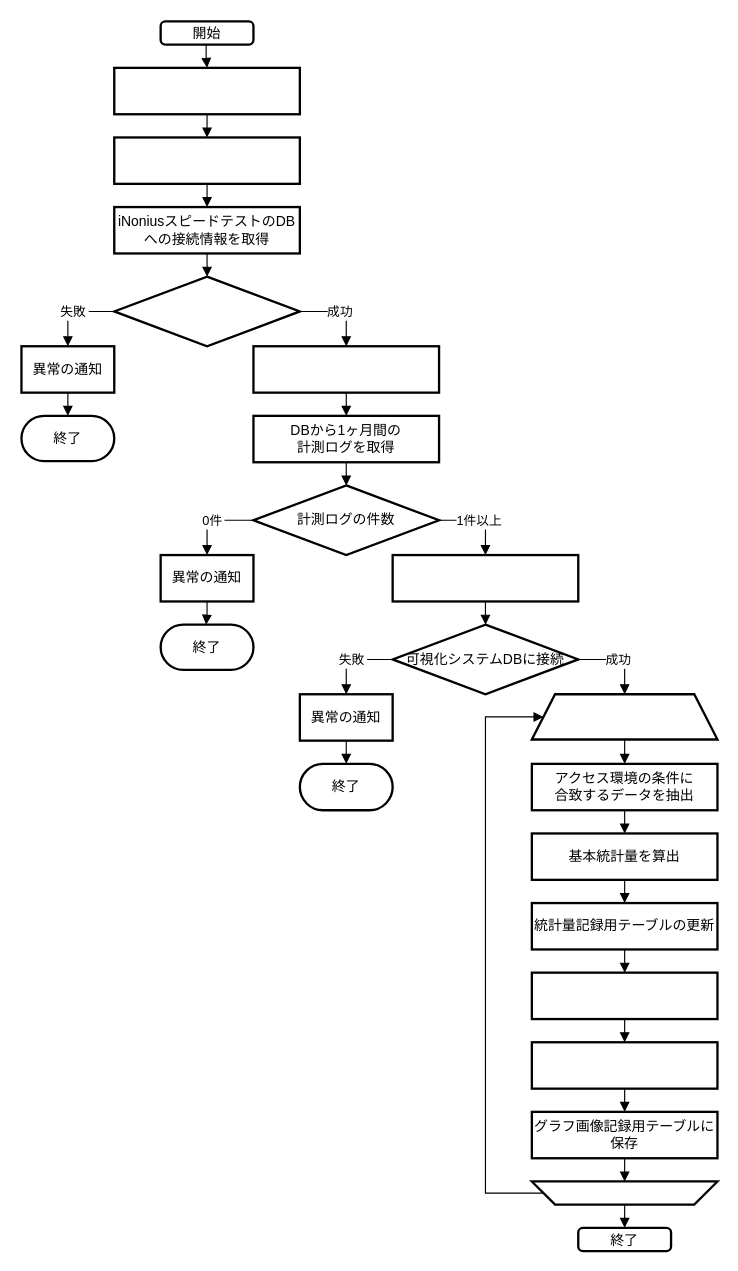
The diagram is 738 pixels wide and 1271 high, and some of its shapes have lost their labels. Each missing label, with the centre of its shape:
iNoniusスピードテスト BDへ接続: point 206,311
アクセス環境の数ループ: point 624,716
クエリを実行: point 346,369
グラフを作成: point 624,1065
前月の計測結果を取得する クエリを作成: point 206,160
外れ値の除去: point 485,577
実行時の日付から 前月末の日付を算出: point 206,90
統計量記録用テーブルから 1年分のデータを取得: point 624,995
